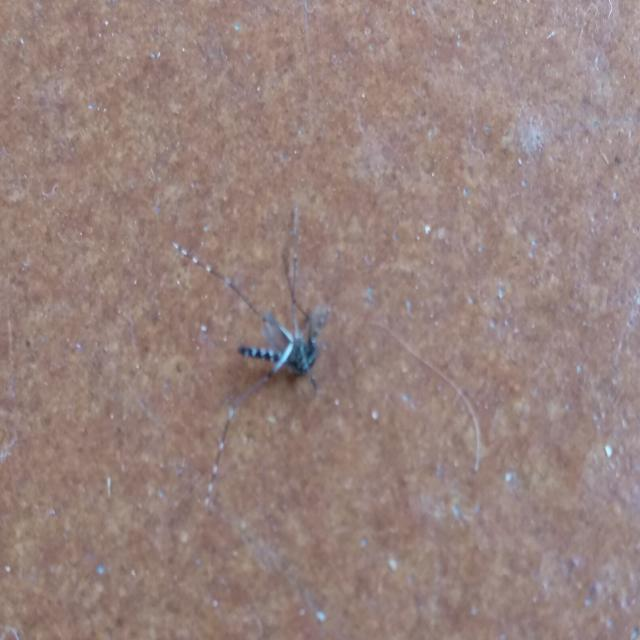albopictus: (170, 215, 334, 390)
